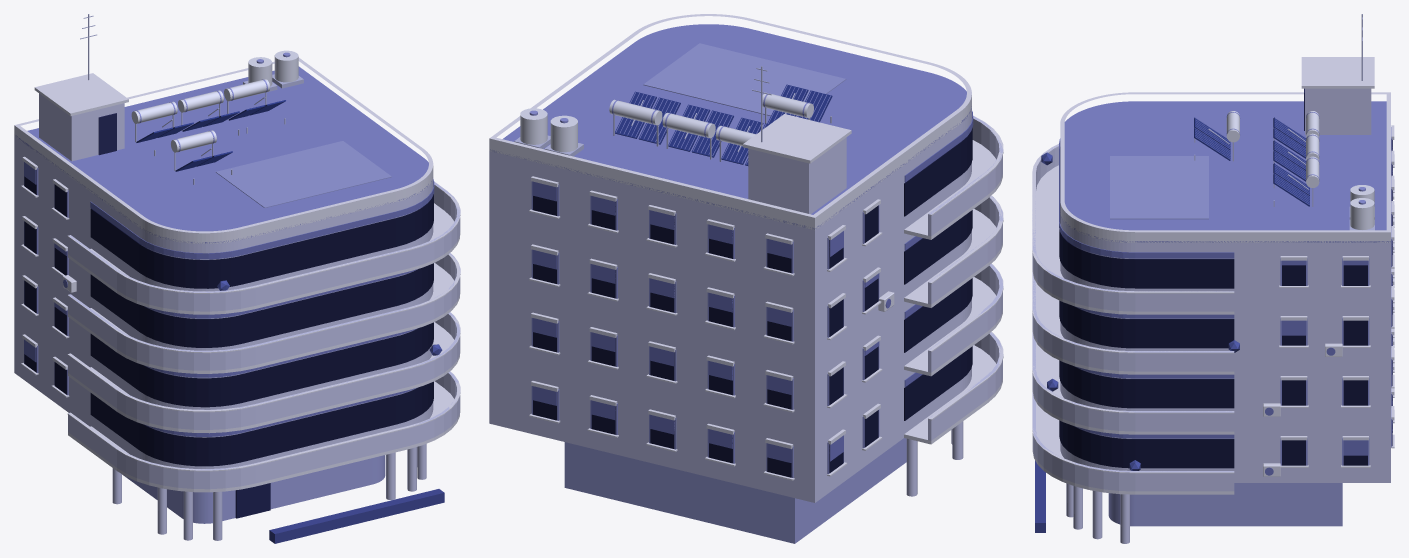
The model's file is blockC.glb.
3 renders of one model, left to right at view 1: azimuth 30°, elevation 25°; view 2: azimuth 150°, elevation 25°; view 3: azimuth 270°, elevation 25°, orthographic. The views are drawn at different scales.
Visible parts, largest first — view 1: baked1, baked5, baked9, baked7, baked14, baked6, baked0, baked12, baked3, baked11, baked2, baked4 (+2 smaller); view 2: baked1, baked9, baked7, baked5, baked0, baked6, baked14, baked4, baked11, baked12, baked13; view 3: baked1, baked9, baked5, baked7, baked0, baked14, baked6, baked4, baked11, baked12, baked3, baked13 (+1 smaller).
Part boxes in pixels (x1=…): baked1: x1=14, y1=93, x2=460, y2=540; baked5: x1=24, y1=170, x2=433, y2=466; baked9: x1=15, y1=66, x2=431, y2=243; baked7: x1=14, y1=57, x2=460, y2=492; baked14: x1=216, y1=141, x2=391, y2=207; baked6: x1=24, y1=162, x2=434, y2=436; baked0: x1=122, y1=455, x2=385, y2=523; baked12: x1=131, y1=50, x2=298, y2=152; baked3: x1=269, y1=489, x2=444, y2=543; baked11: x1=136, y1=100, x2=285, y2=171; baked2: x1=235, y1=483, x2=270, y2=518; baked4: x1=24, y1=52, x2=290, y2=395; baked1: x1=489, y1=107, x2=1002, y2=502; baked9: x1=490, y1=24, x2=971, y2=229; baked7: x1=489, y1=14, x2=1003, y2=480; baked5: x1=533, y1=128, x2=972, y2=477; baked0: x1=564, y1=438, x2=906, y2=543; baked6: x1=532, y1=111, x2=973, y2=462; baked14: x1=643, y1=43, x2=846, y2=116; baked4: x1=529, y1=85, x2=879, y2=477; baked11: x1=615, y1=84, x2=832, y2=165; baked12: x1=520, y1=92, x2=813, y2=152; baked13: x1=514, y1=66, x2=831, y2=161; baked1: x1=1032, y1=88, x2=1390, y2=543; baked9: x1=1061, y1=101, x2=1390, y2=242; baked5: x1=1059, y1=140, x2=1392, y2=468; baked7: x1=1032, y1=57, x2=1394, y2=494; baked0: x1=1108, y1=483, x2=1342, y2=526; baked14: x1=1110, y1=156, x2=1208, y2=219; baked6: x1=1059, y1=138, x2=1392, y2=475; baked4: x1=1195, y1=112, x2=1392, y2=465; baked11: x1=1194, y1=117, x2=1309, y2=206; baked12: x1=1226, y1=111, x2=1374, y2=229; baked3: x1=1035, y1=460, x2=1045, y2=532; baked13: x1=1194, y1=14, x2=1374, y2=230.
Size of the model in its own units: 17.54 by 21.15 by 16.44.
